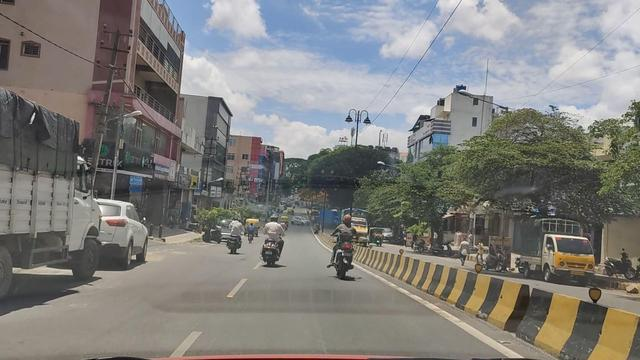HMV: (0, 87, 109, 290)
LMV: (327, 211, 361, 288), (249, 213, 288, 277)
